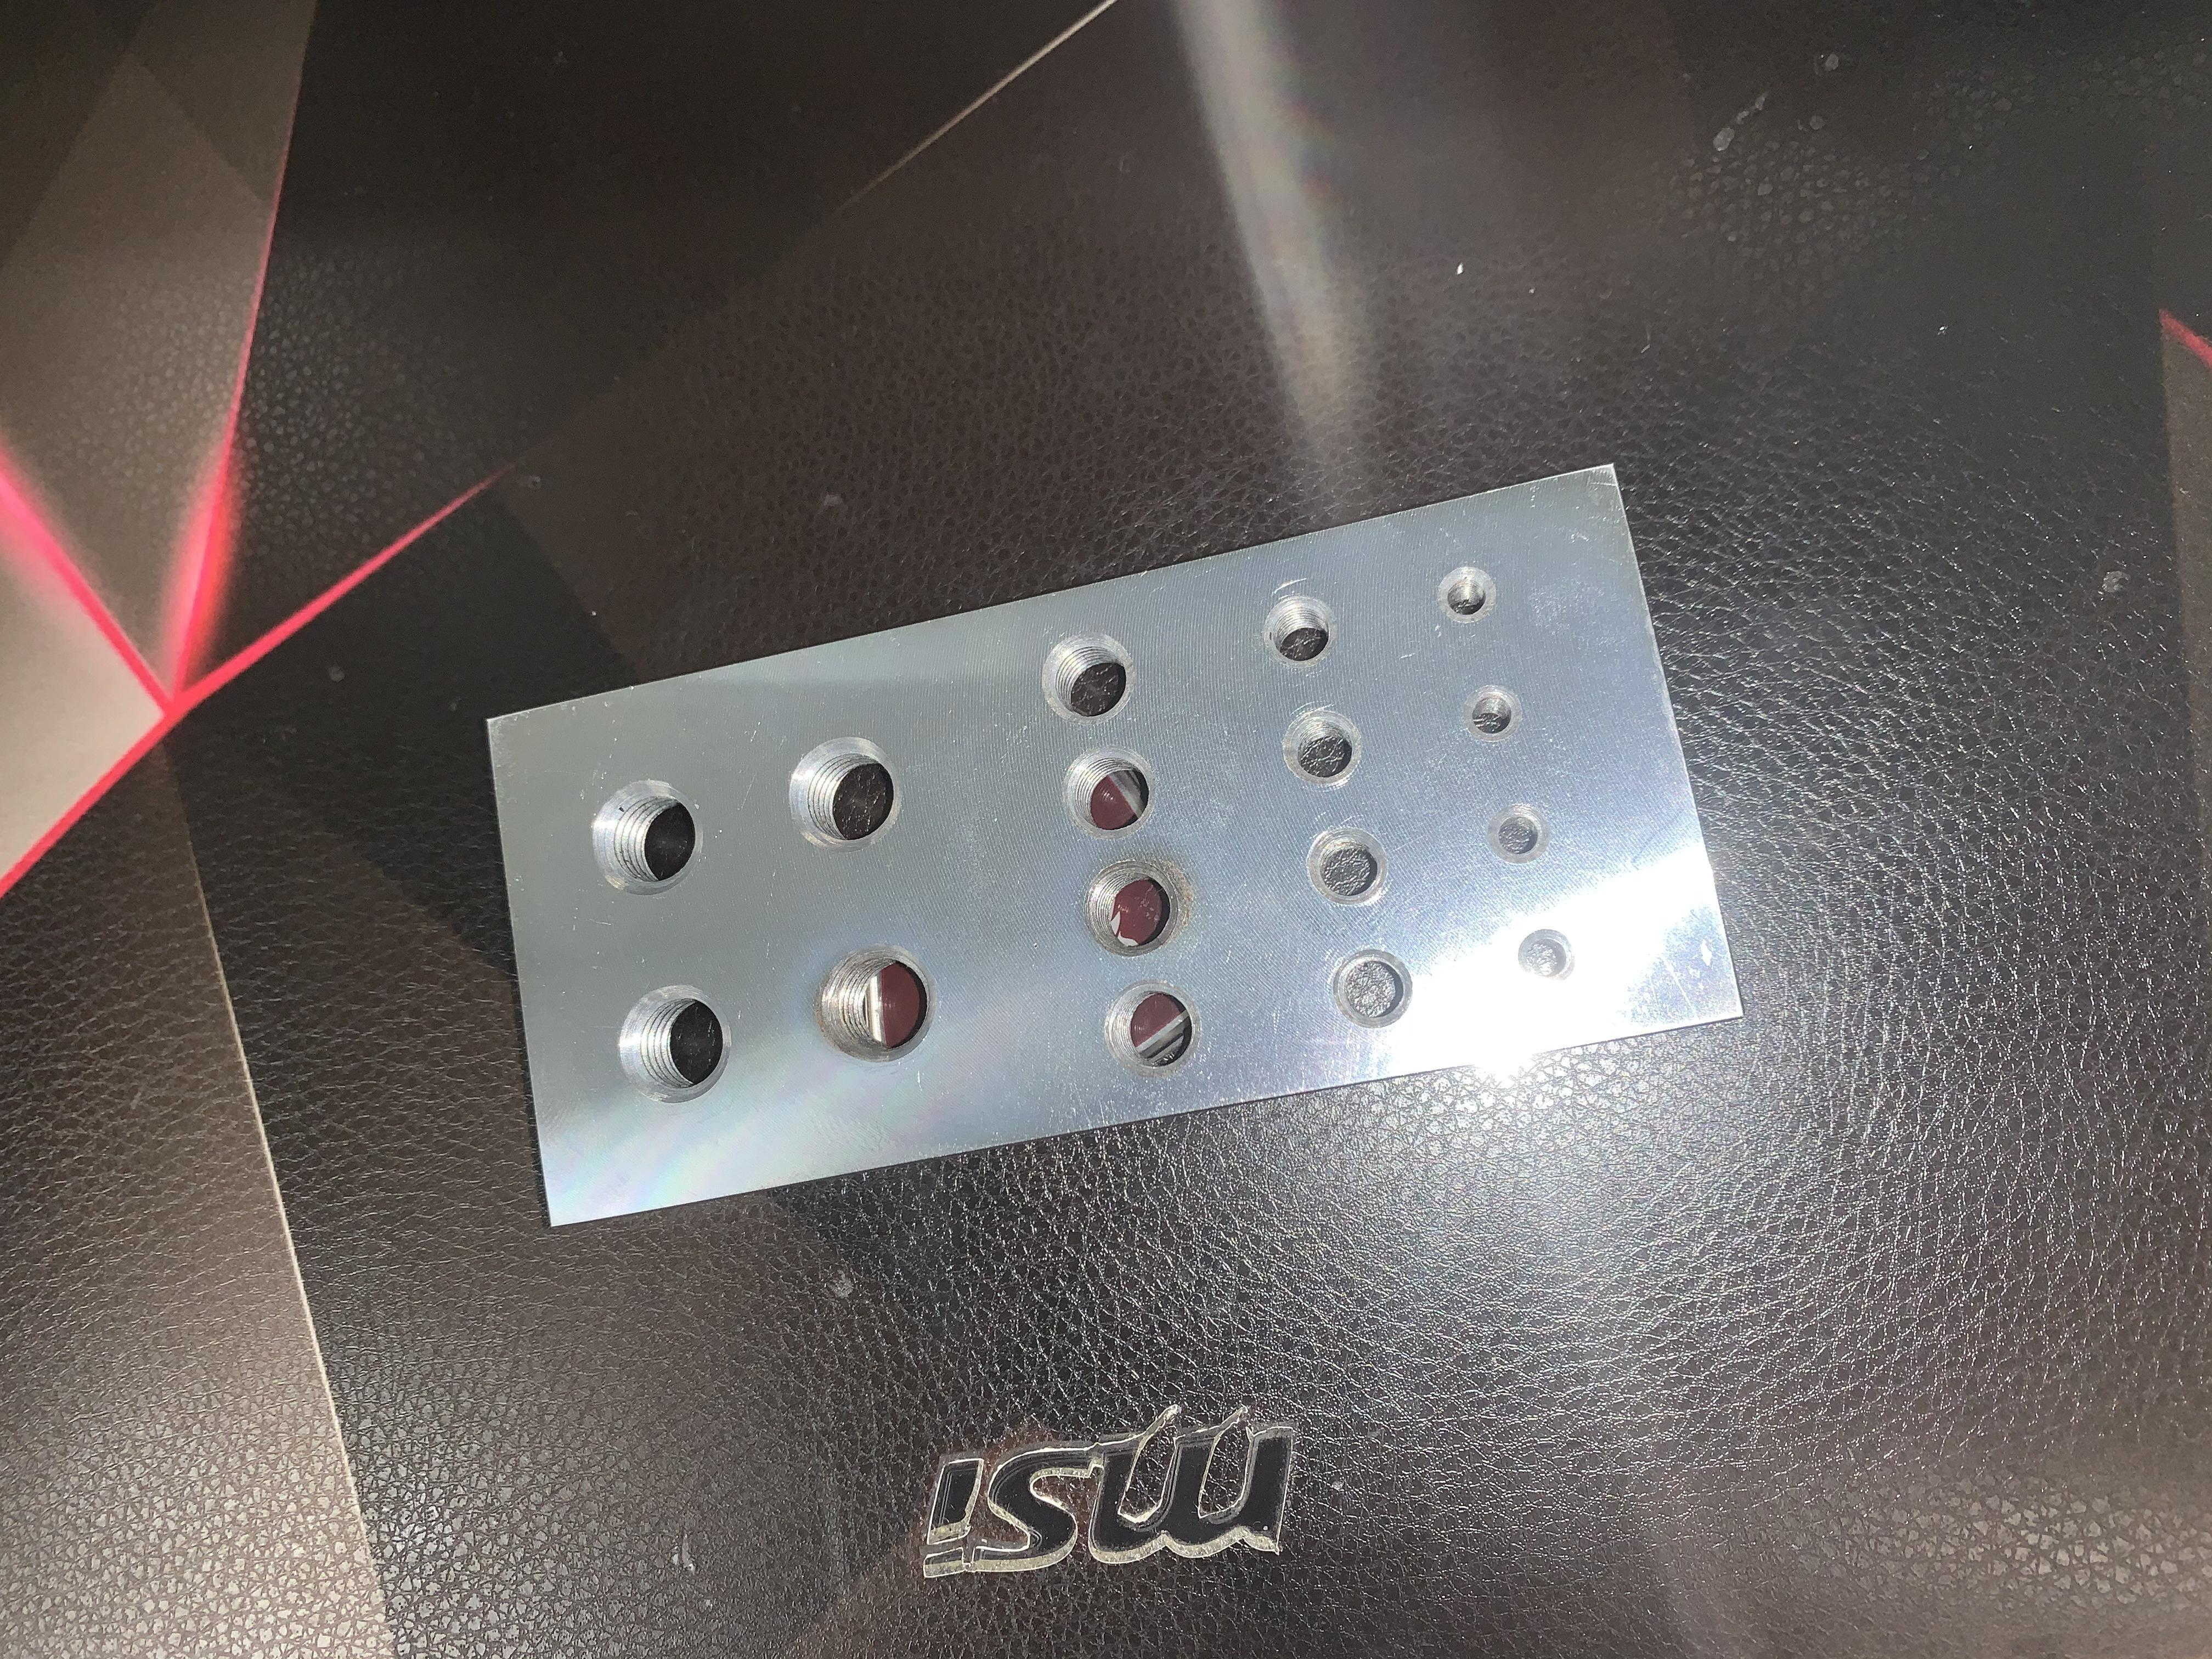hole: (789, 908, 972, 1094), (763, 708, 928, 880), (554, 751, 718, 913), (590, 955, 738, 1112), (1066, 850, 1214, 967), (1054, 728, 1177, 849), (1028, 619, 1157, 734), (1097, 981, 1230, 1082), (1325, 939, 1435, 1035), (1299, 823, 1402, 920), (1247, 587, 1359, 676), (1268, 704, 1376, 788), (1480, 796, 1557, 884), (1510, 908, 1588, 990), (1453, 674, 1531, 755), (1430, 565, 1503, 636)
